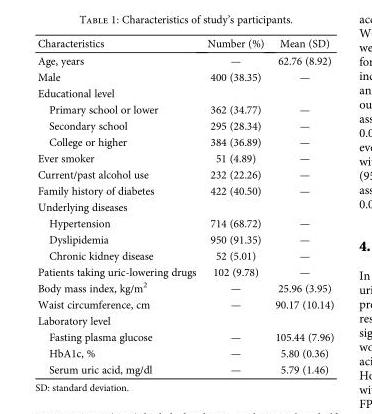table: (36, 36, 333, 375)
table column: (36, 36, 201, 375), (201, 36, 268, 375), (268, 36, 333, 375)
table column header: (36, 36, 333, 51)
table projected row header: (36, 84, 333, 101), (36, 198, 333, 214), (36, 312, 333, 328)
table row: (36, 278, 333, 296), (36, 51, 333, 68), (36, 84, 333, 101), (36, 149, 333, 166), (36, 214, 333, 231), (36, 344, 333, 361), (36, 68, 333, 84), (36, 101, 333, 117), (36, 117, 333, 133), (36, 133, 333, 149), (36, 166, 333, 182), (36, 182, 333, 198), (36, 198, 333, 214), (36, 231, 333, 247), (36, 247, 333, 263), (36, 296, 333, 312), (36, 312, 333, 328), (36, 328, 333, 344), (36, 36, 333, 51), (36, 263, 333, 278), (36, 361, 333, 375)
